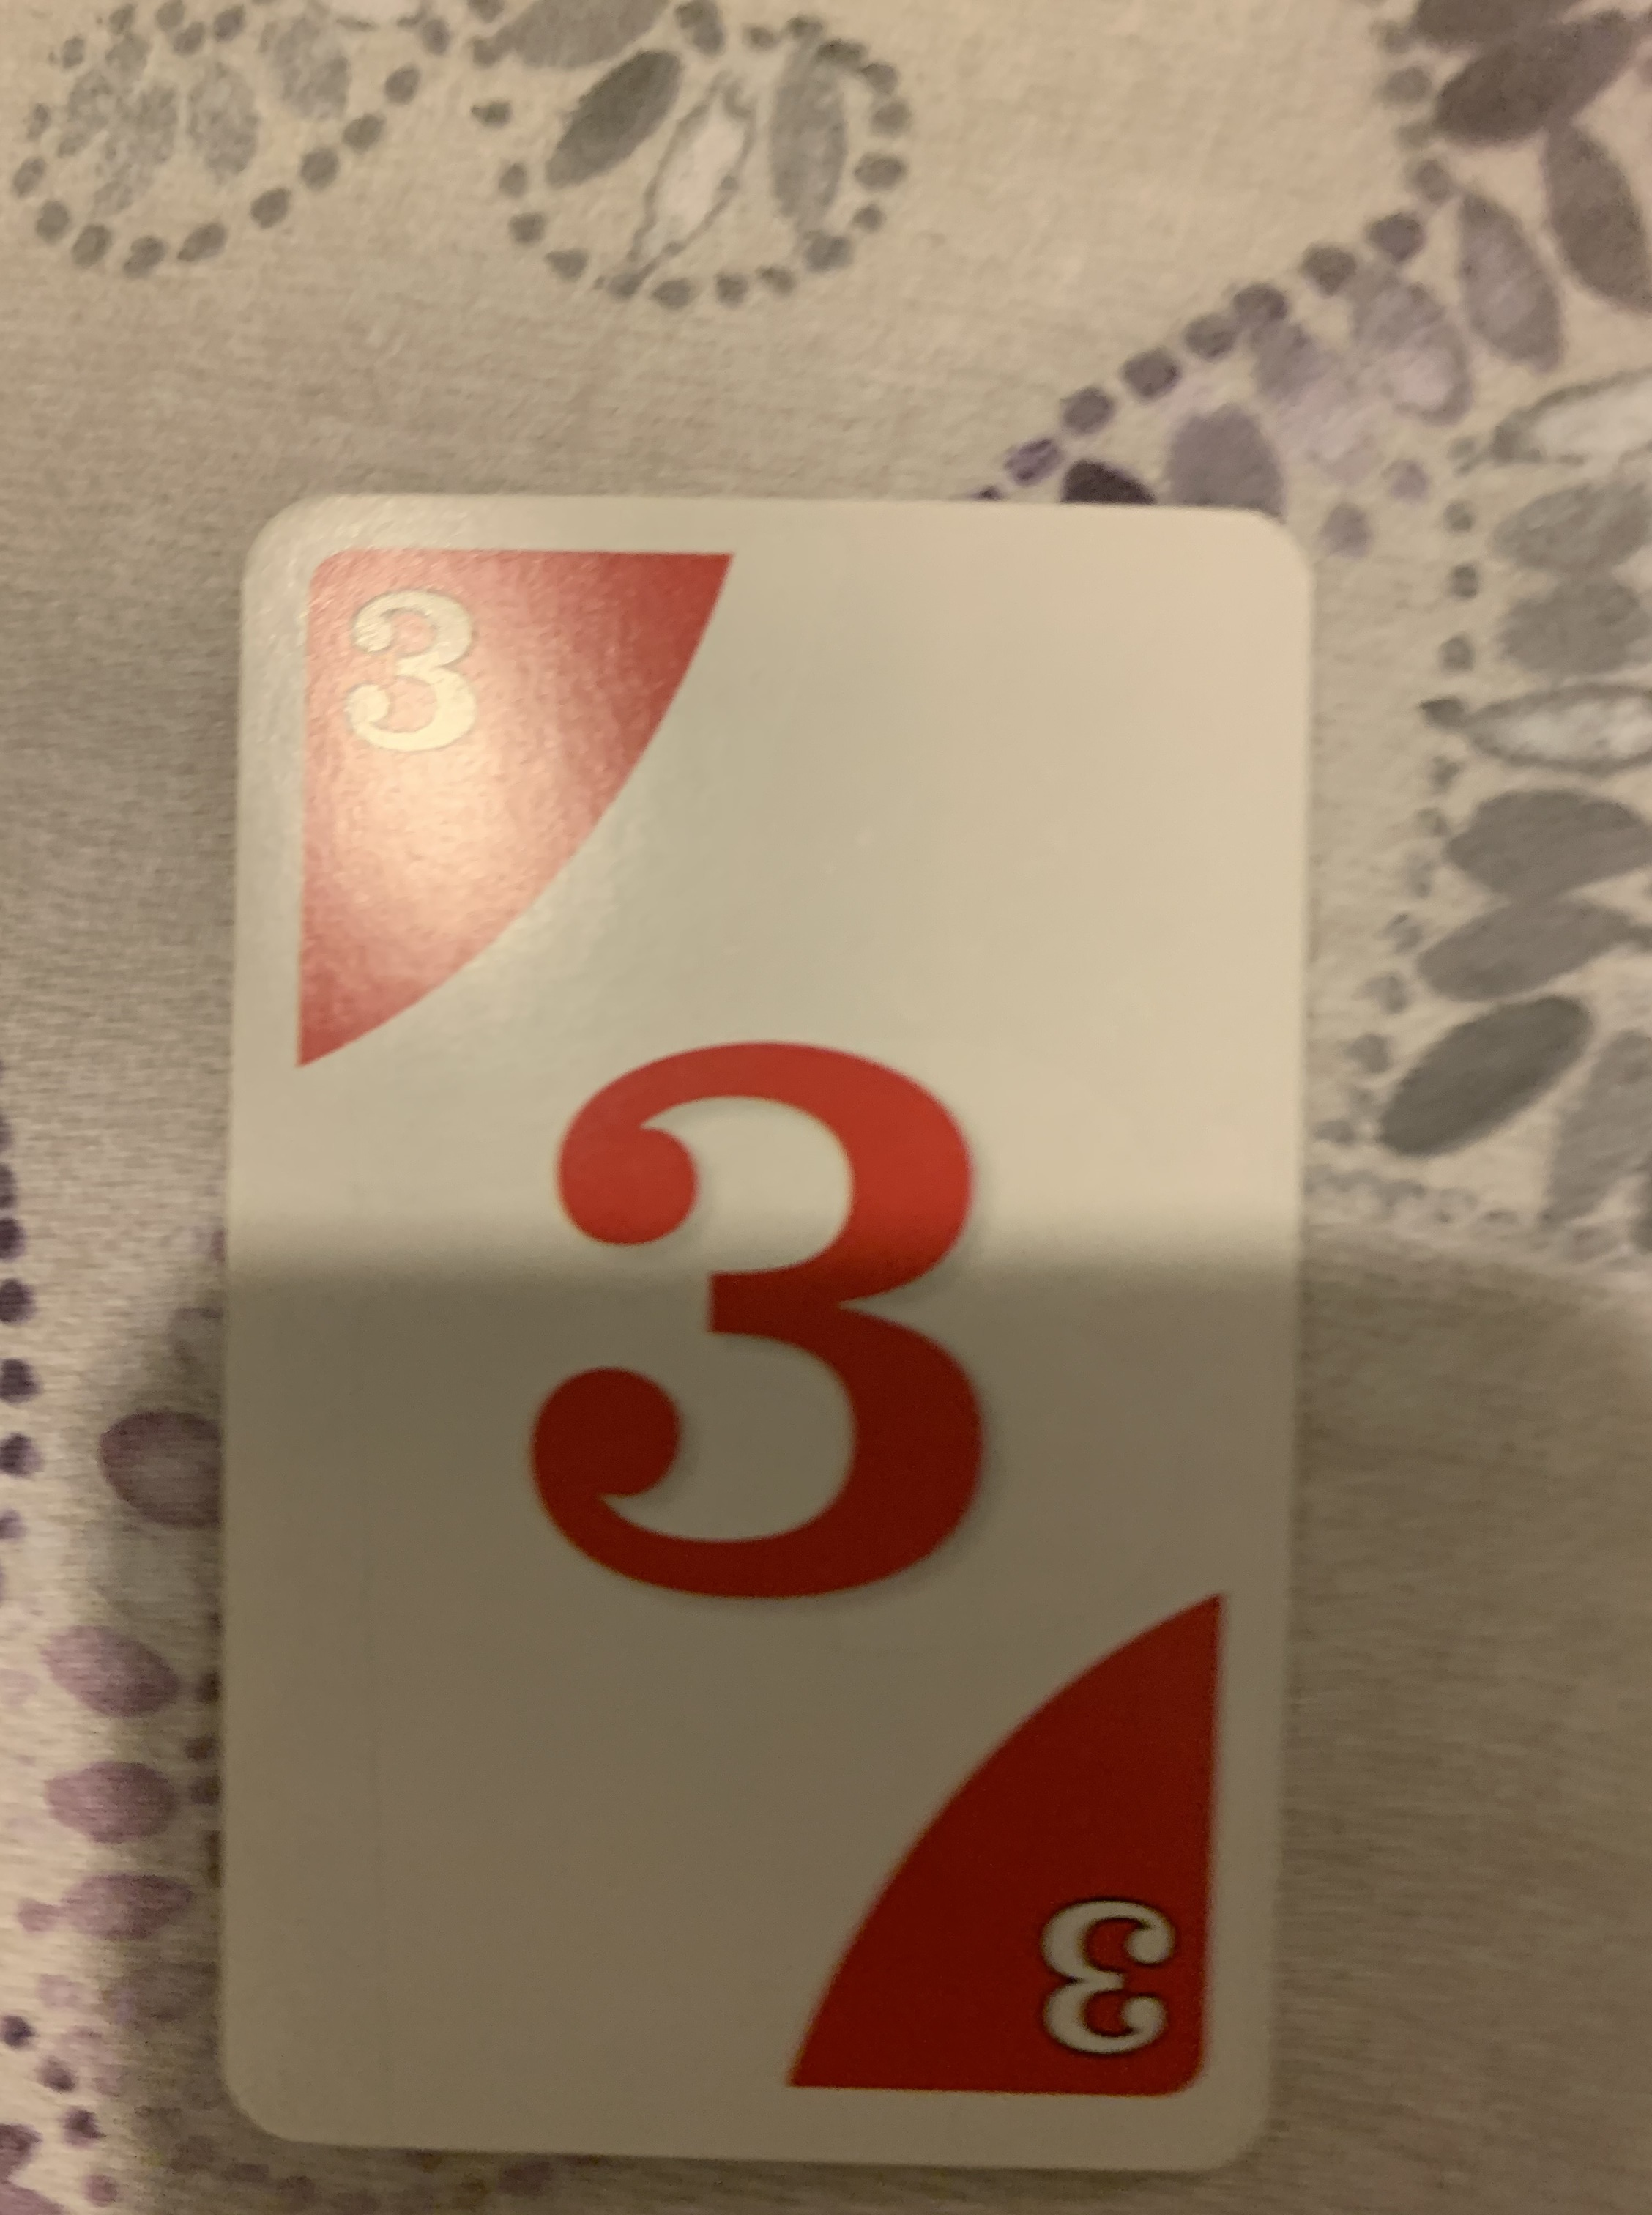three: (212, 486, 1319, 2179)
